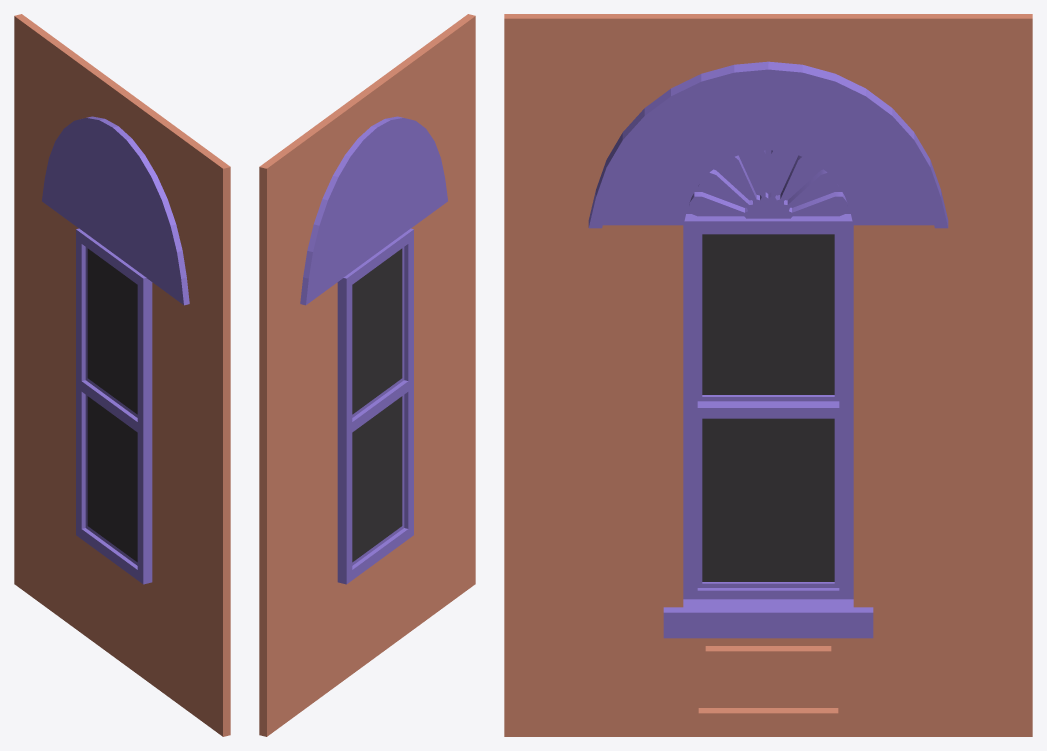
File: Finestra_2.glb
The picture shows the model from 3 angles, left to right: view 1: azimuth 30°, elevation 25°; view 2: azimuth 150°, elevation 25°; view 3: azimuth 270°, elevation 25°; orthographic projection. The views are drawn at different scales.
Parts seen in each view (by area): view 1: Cylinder; view 2: Cylinder; view 3: Cylinder.
Part boxes in pixels (bbox=[...]): Cylinder: bbox=[14, 14, 230, 736]; Cylinder: bbox=[259, 14, 475, 736]; Cylinder: bbox=[504, 14, 1032, 736].
Bounding box in the file's own units: 0.1846 × 3 × 2.
